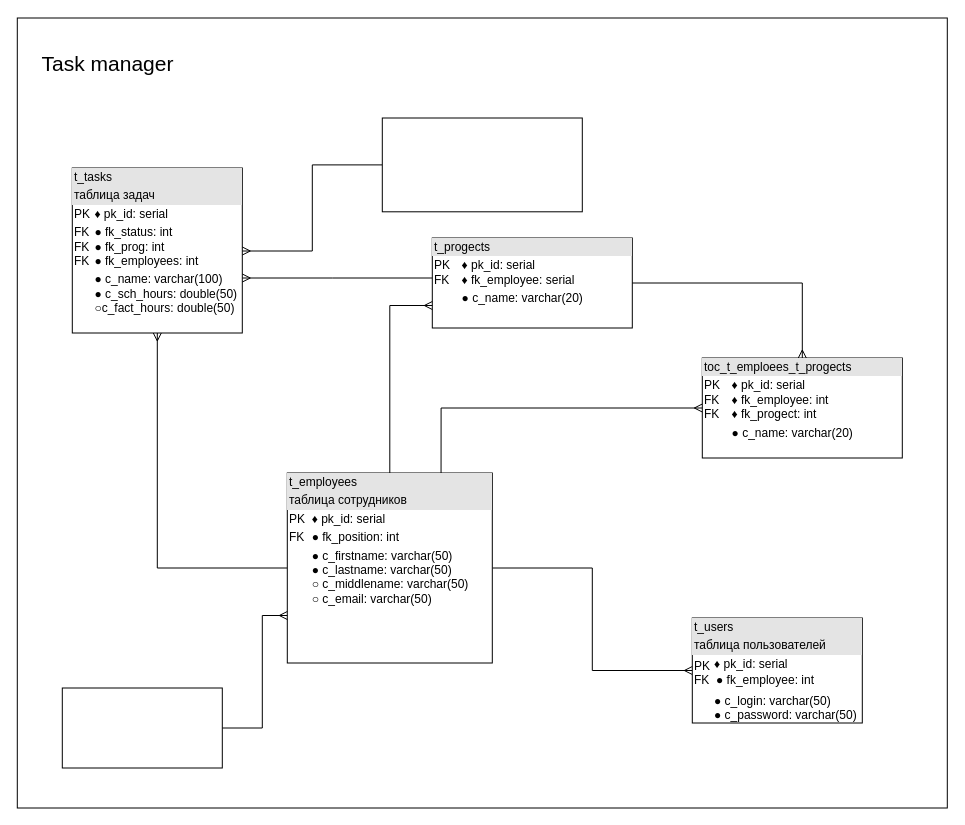
This 965x825 diagram has some shape labels left out. The shapes that lost their labels are listed below. From the top down, each one's centre as x and y in pixels, then its label:
At point 481,164: "t_statuses таблица статусов PK ♦ pk_id: serial ● c_value: varchar(50)".
At point 141,727: "ref_positions таблица должностей PK ♦ pk_id: serial ● c_name: varchar(100)".
